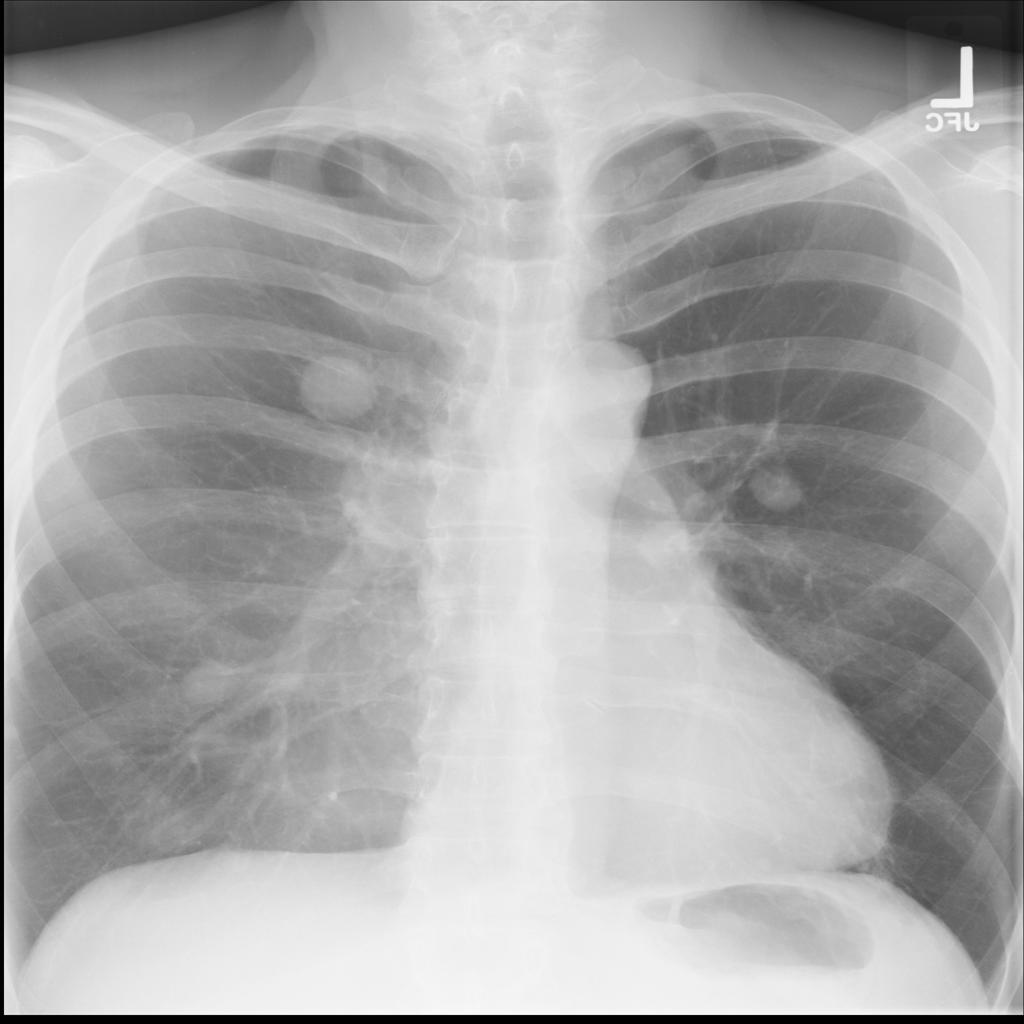nodule: (279, 339, 395, 434), (738, 453, 826, 523), (169, 650, 256, 715)
